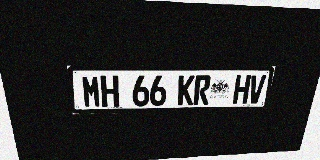6: (132, 75, 149, 106), (150, 75, 167, 106)
H: (100, 75, 119, 107), (232, 75, 251, 104)
K: (177, 75, 195, 105)
M: (81, 75, 101, 108)
R: (193, 75, 211, 105)
V: (247, 75, 266, 104)
